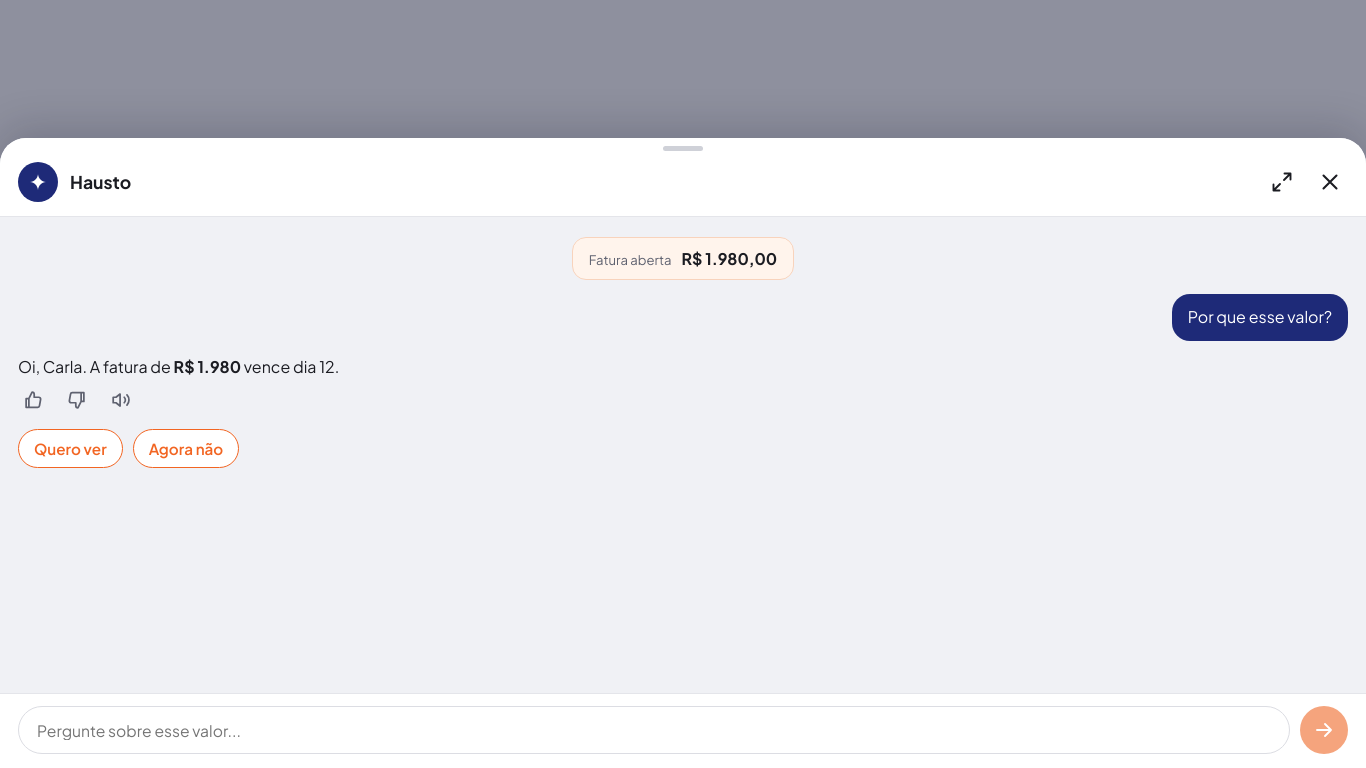
Test case: <Chat> › sem visuais a mensagem do Hausto fica só com o texto (inclusive se o campo não vier)
Click the button "Quero ver".
click(70, 449)  # box [18,429,123,468]
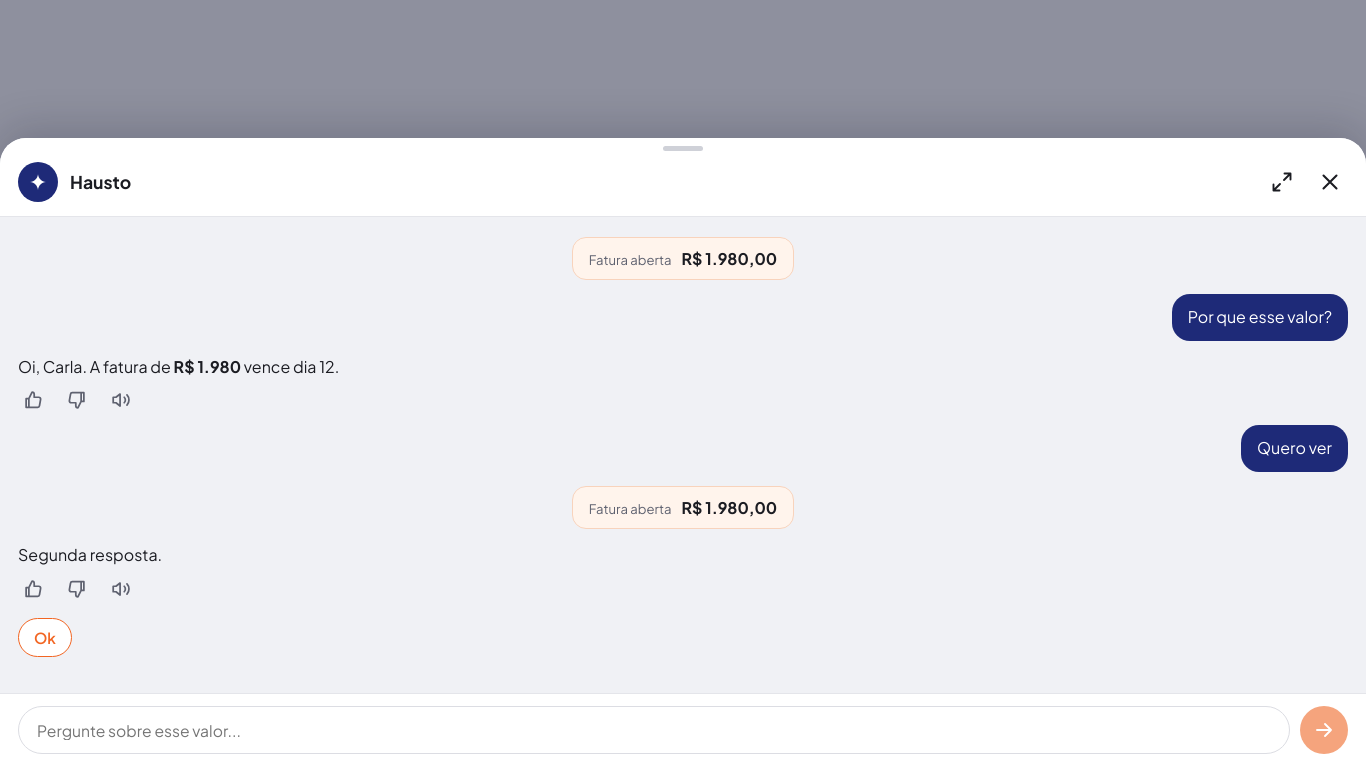
Expected: the button "Ok" is shown, [18,618,72,657]
Expected: the number of elements with class "msg-hausto" is 2, [18,356,339,411]; [18,544,162,600]
